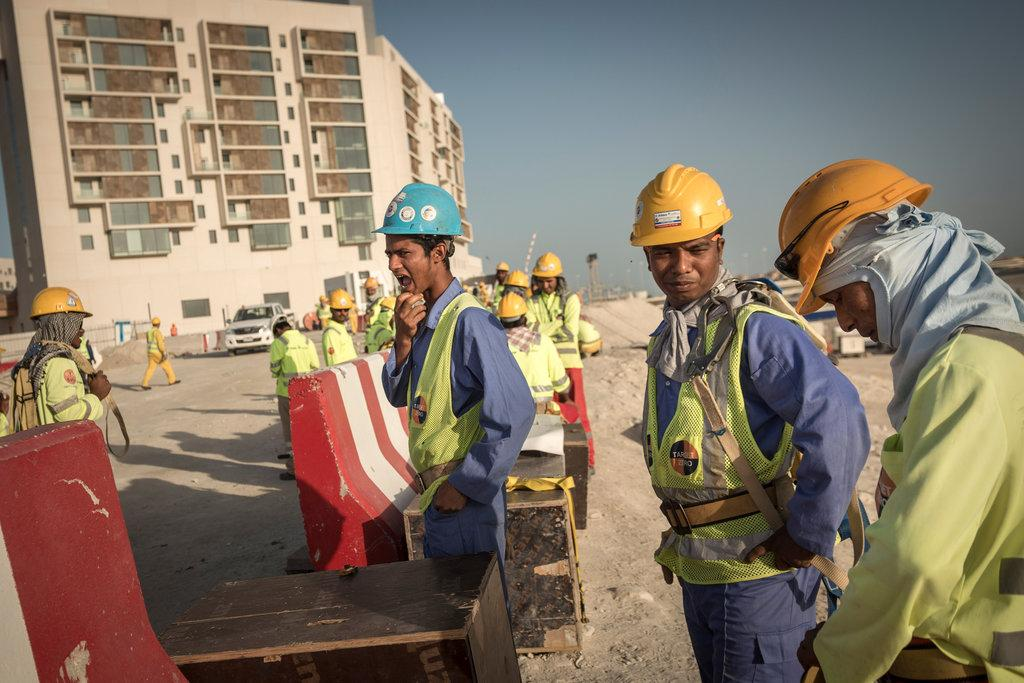helmet: (757, 147, 941, 307), (628, 161, 733, 248), (377, 184, 468, 242), (33, 286, 92, 320), (493, 292, 535, 324), (539, 253, 565, 279), (330, 289, 356, 311), (379, 297, 402, 318), (367, 275, 383, 298), (512, 272, 532, 288), (318, 290, 332, 311), (149, 317, 166, 329), (497, 264, 512, 276), (479, 279, 490, 295)
